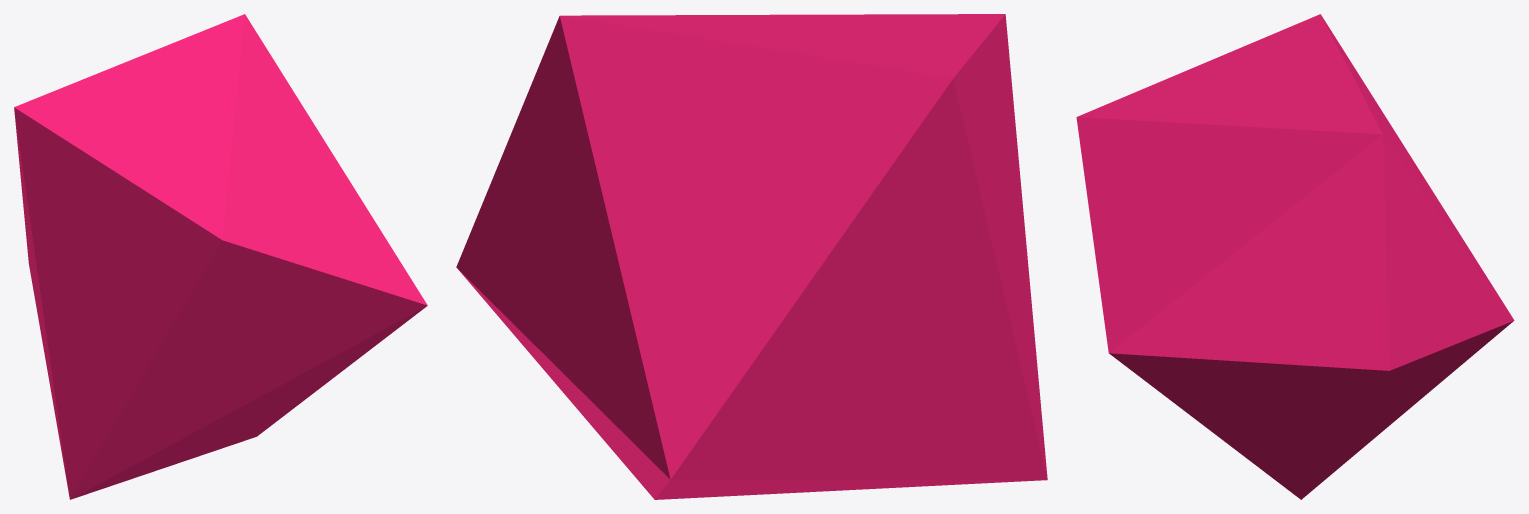
The model's file is streroide1.fbx.
3 views of the same model, side by side, from view 1: azimuth 30°, elevation 25°; view 2: azimuth 150°, elevation 25°; view 3: azimuth 270°, elevation 25° (orthographic). The views are drawn at different scales.
Parts seen in each view (by area): view 1: Sfera_13; view 2: Sfera_13; view 3: Sfera_13.
Part boxes in pixels (x1=…): Sfera_13: x1=14, y1=14, x2=427, y2=499; Sfera_13: x1=456, y1=14, x2=1047, y2=499; Sfera_13: x1=1076, y1=14, x2=1514, y2=499.
Bounding box in the file's own units: 34.17 × 36.57 × 38.23.
